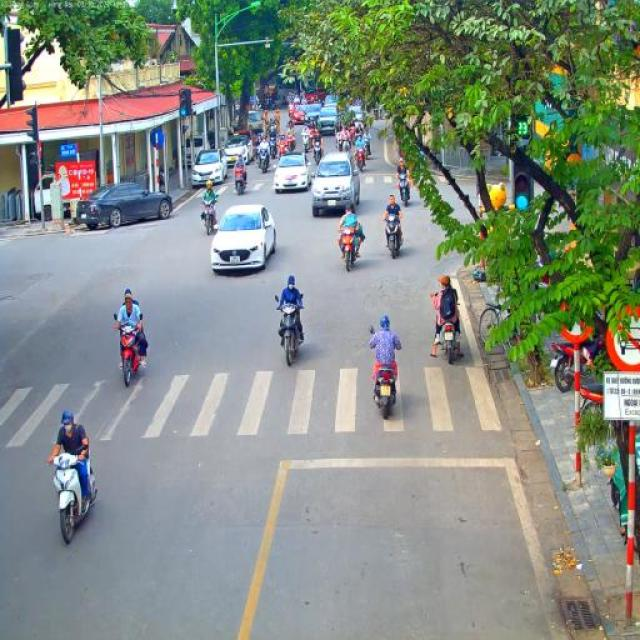car: (76, 181, 174, 230), (211, 204, 277, 274), (310, 152, 360, 218), (273, 152, 312, 194), (191, 149, 228, 189), (222, 134, 253, 170), (316, 106, 339, 136), (302, 102, 322, 126), (232, 130, 254, 150), (293, 104, 306, 125), (350, 105, 362, 124), (323, 95, 339, 109)
motorcycle: (47, 450, 98, 544), (550, 333, 602, 392), (370, 326, 399, 420), (114, 312, 144, 388), (275, 293, 306, 366), (437, 322, 462, 364), (340, 226, 360, 272), (384, 213, 401, 259), (580, 381, 605, 407), (201, 198, 218, 236), (396, 170, 410, 206), (233, 165, 247, 196), (258, 148, 270, 174), (354, 147, 366, 172), (313, 142, 323, 168), (276, 144, 288, 164), (300, 132, 312, 152), (268, 136, 277, 160), (286, 132, 296, 152), (363, 139, 372, 160), (334, 135, 344, 153), (341, 137, 352, 153), (355, 127, 364, 143), (268, 122, 276, 138), (351, 133, 357, 151), (290, 111, 296, 129)
truck: (32, 176, 80, 223), (247, 110, 264, 140)
